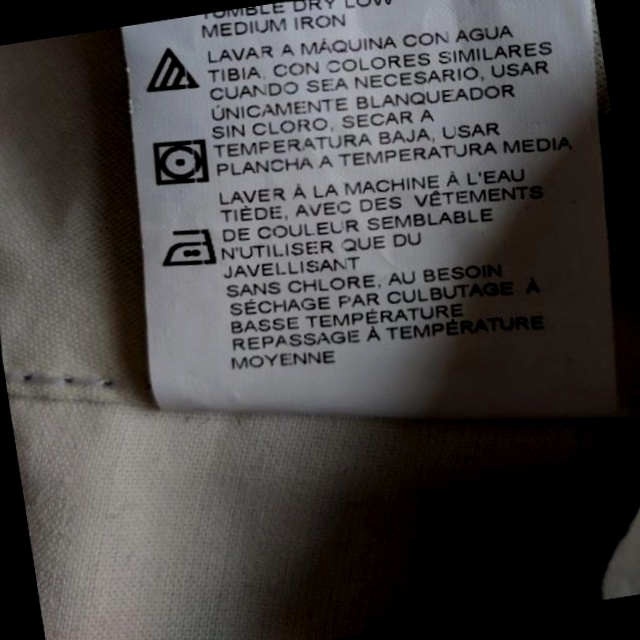iron_medium: (159, 219, 224, 273)
non_chlorine_bleach: (139, 37, 208, 105)
tumble_dry_low: (143, 130, 216, 193)
